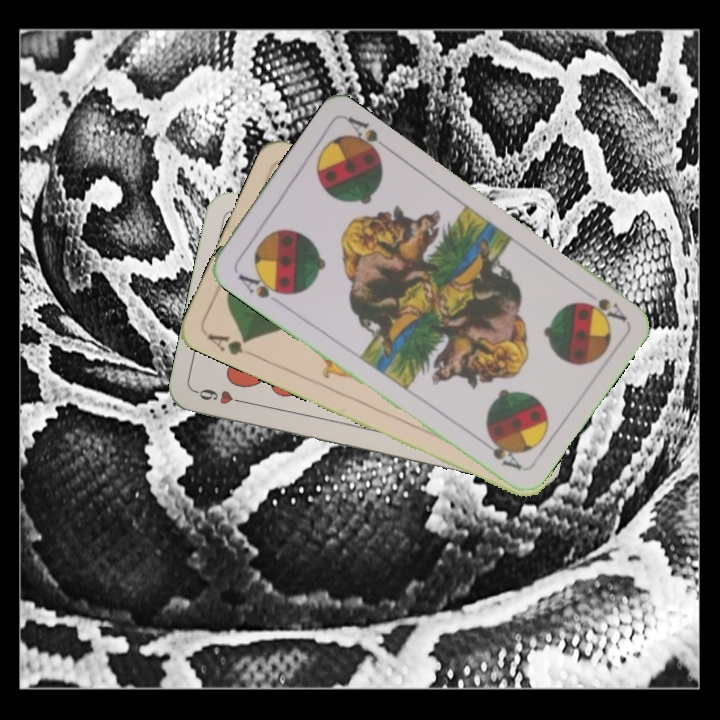GA: (203, 329, 259, 360)
H9: (192, 384, 251, 407)
SA: (234, 268, 289, 301), (576, 294, 629, 325)
